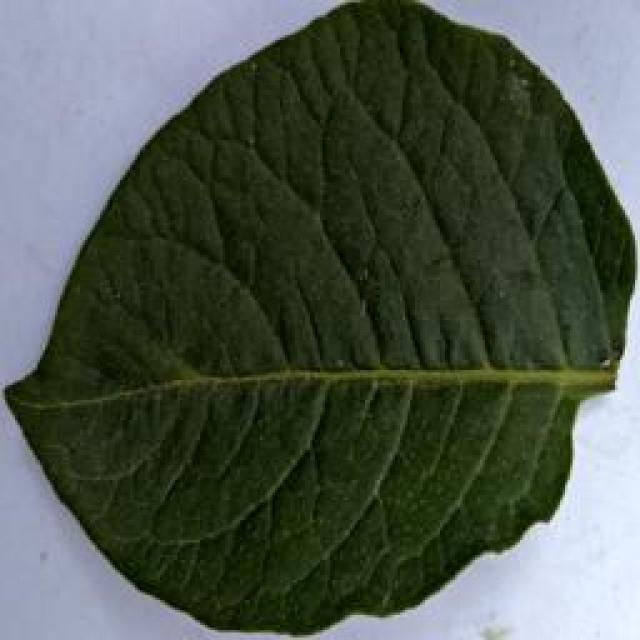Potato_Healthy: (5, 1, 624, 628)
